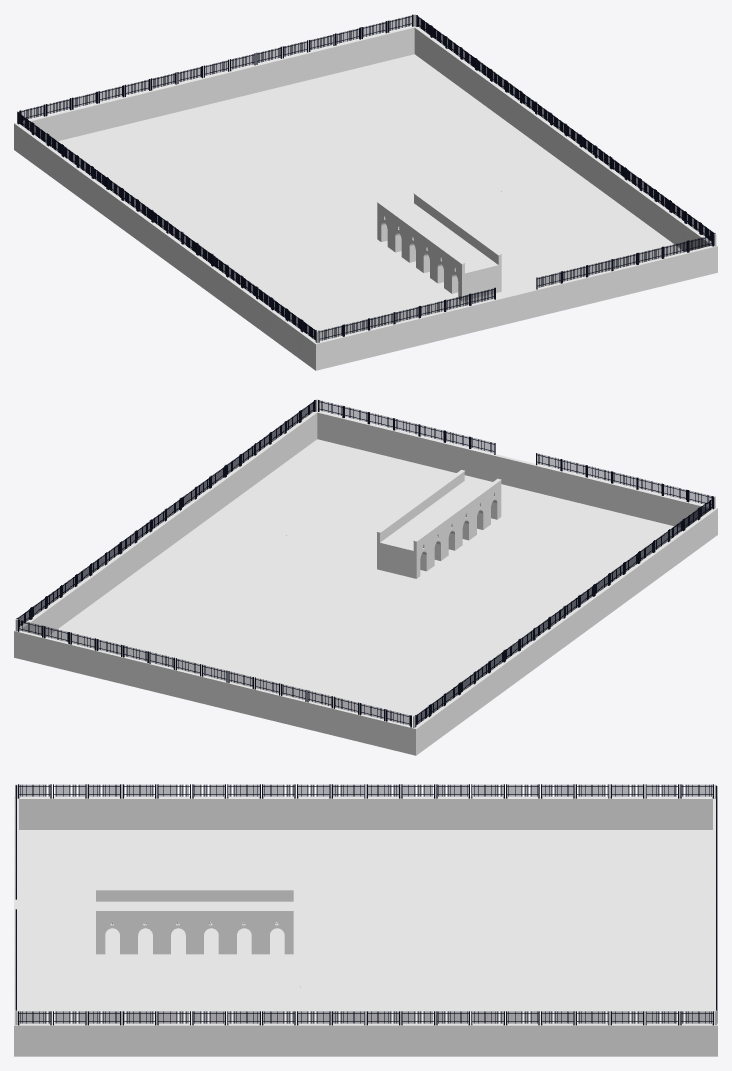
The model's file is trying.glb.
3 renders of one model, top to bottom at view 1: azimuth 30°, elevation 25°; view 2: azimuth 150°, elevation 25°; view 3: azimuth 270°, elevation 25°, orthographic. The views are drawn at different scales.
Parts seen in each view (by area): view 1: Plane.001, Cube.010, Cube.006, Cube.005, Cube.002, Cube.001, Cube.007, Cube.003, Cube.004, Cube.011, Cube.012; view 2: Plane.001, Cube.006, Cube.010, Cube.005, Cube.002, Cube.001, Cube.007, Cube.003, Cube.004, Cube.011, Cube.012; view 3: Plane.001, Cube.002, Cube.005, Cube.001, Cube.004, Cube.003, Cube.010, Cube.006, Cube.007.
Boxes of the visible parts, x1,y1,x2,y2 form: Plane.001: (51, 54, 683, 340); Cube.010: (315, 245, 717, 369); Cube.006: (14, 26, 415, 142); Cube.005: (14, 122, 319, 370); Cube.002: (413, 26, 717, 273); Cube.001: (377, 192, 501, 301); Cube.007: (19, 14, 413, 120); Cube.003: (17, 112, 316, 341); Cube.004: (416, 15, 715, 240); Cube.011: (536, 234, 713, 289); Cube.012: (318, 287, 495, 342); Plane.001: (16, 439, 680, 755); Cube.006: (14, 630, 412, 754); Cube.010: (316, 411, 715, 527); Cube.005: (412, 508, 717, 755); Cube.002: (14, 411, 317, 658); Cube.001: (377, 470, 501, 578); Cube.007: (17, 619, 411, 727); Cube.003: (415, 497, 713, 727); Cube.004: (16, 400, 315, 626); Cube.011: (318, 400, 495, 454); Cube.012: (536, 453, 713, 507); Plane.001: (19, 830, 712, 1023); Cube.002: (14, 1023, 717, 1056); Cube.005: (14, 796, 717, 829); Cube.001: (96, 888, 293, 954); Cube.004: (18, 1011, 713, 1025); Cube.003: (18, 784, 713, 798); Cube.010: (14, 797, 18, 1025); Cube.006: (713, 797, 717, 1025); Cube.007: (716, 786, 717, 1023).
Bounding box in the file's own units: 225 × 20.85 × 292.
Materials: 38 (24 with a texture image).
